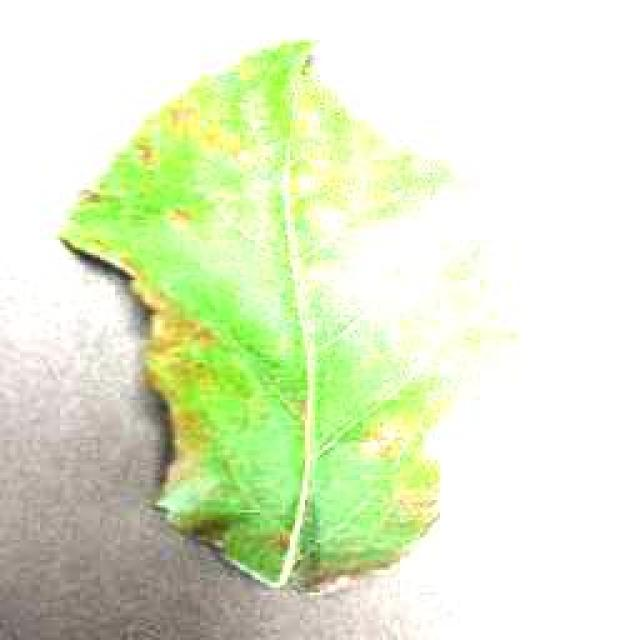apple cedar apple rust: (55, 38, 510, 590)
